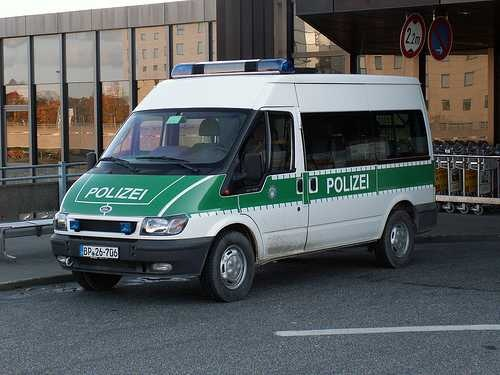Police Van: (53, 45, 473, 280)
